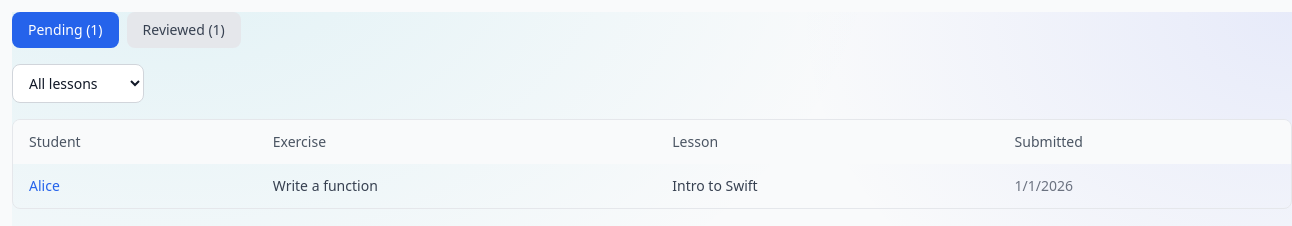
it: QueueTable › switches to reviewed tab on click
Click the button "Reviewed (1)": x=184, y=30 [127,12,241,48]
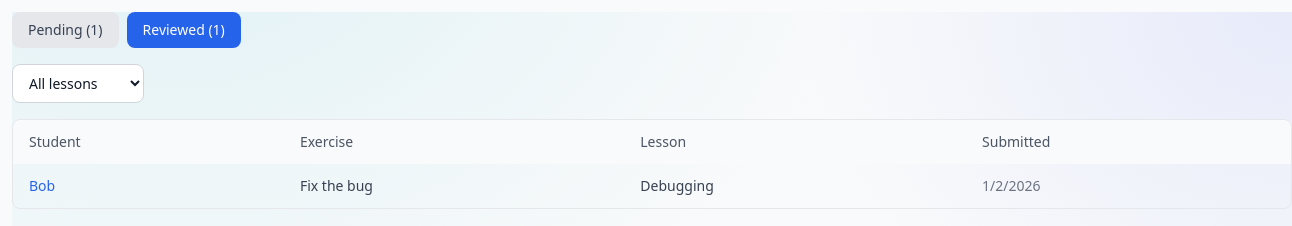
Expected: the link "Bob" is shown, [29,176,55,195]
